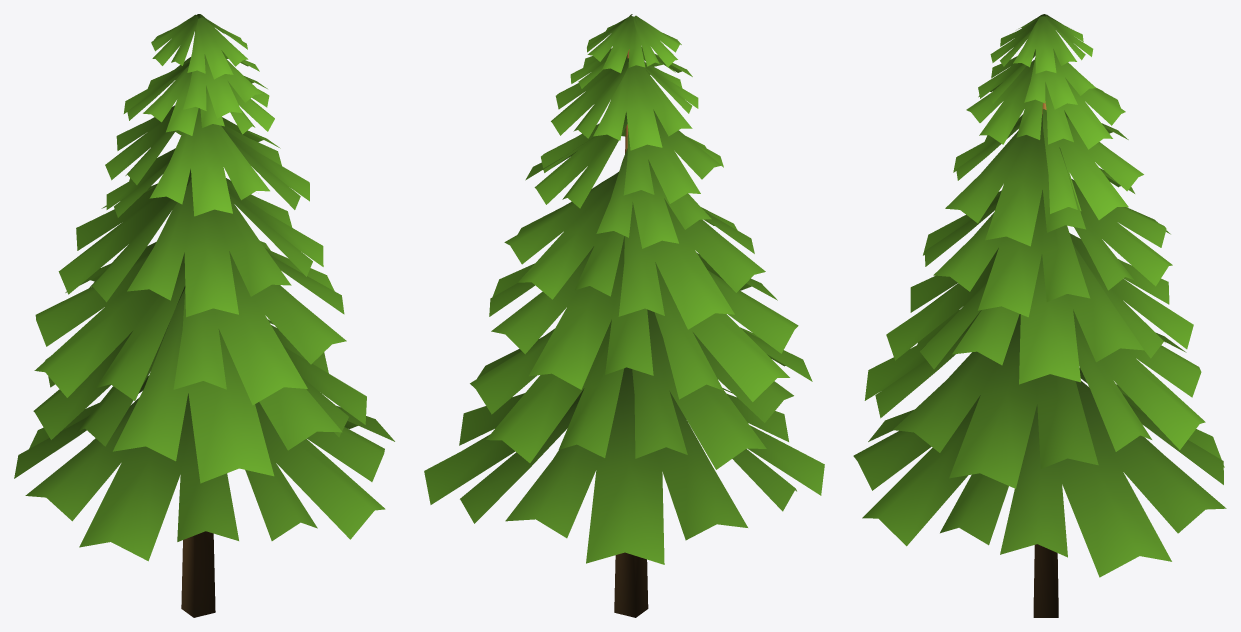
Rendered from pine02.fbx.
3 renders of one model, left to right at view 1: azimuth 30°, elevation 25°; view 2: azimuth 150°, elevation 25°; view 3: azimuth 270°, elevation 25°, orthographic.
Parts seen in each view (by area): view 1: TreeV1; view 2: TreeV1; view 3: TreeV1.
Part boxes in pixels (<box>): TreeV1: <box>14,14,394,617</box>; TreeV1: <box>424,14,824,617</box>; TreeV1: <box>853,14,1226,617</box>.
Bounding box in the file's own units: 638 × 1079 × 612.
